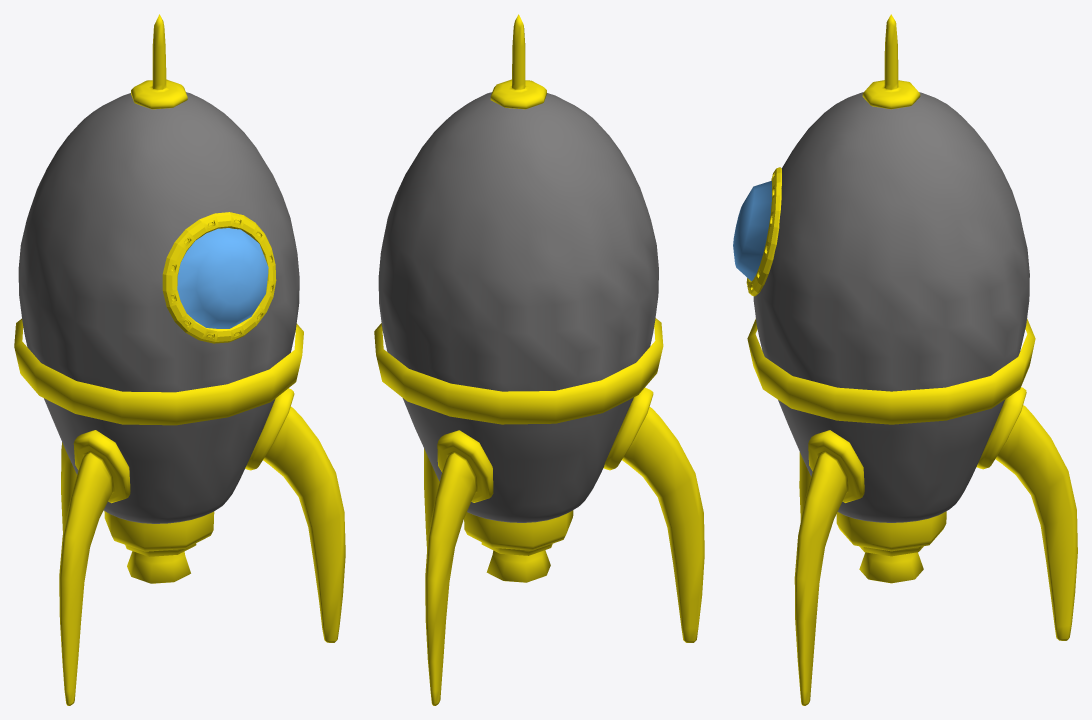
The model's file is SpaceShip.glb.
3 views of the same model, side by side, from view 1: azimuth 30°, elevation 25°; view 2: azimuth 150°, elevation 25°; view 3: azimuth 270°, elevation 25° (orthographic).
Visible parts, largest first — view 1: boddy, Arm, boddy_belt, win_001, fire_nozzle, win_frem, head; view 2: boddy, Arm, boddy_belt, fire_nozzle, head; view 3: boddy, Arm, boddy_belt, fire_nozzle, win_001, head, win_frem.
Part boxes in pixels (box(x1,y1,x2,y2)): boddy: box(18, 92, 299, 523); Arm: box(59, 388, 345, 705); boddy_belt: box(14, 318, 303, 425); win_001: box(177, 228, 268, 328); fire_nozzle: box(104, 511, 214, 583); win_frem: box(162, 212, 276, 343); head: box(131, 14, 187, 109); boddy: box(378, 92, 658, 522); Arm: box(424, 387, 704, 705); boddy_belt: box(374, 318, 663, 424); fire_nozzle: box(464, 510, 573, 582); head: box(490, 14, 546, 109); boddy: box(753, 92, 1029, 522); Arm: box(794, 387, 1077, 705); boddy_belt: box(747, 318, 1035, 424); fire_nozzle: box(836, 511, 946, 583); win_001: box(733, 180, 771, 281); head: box(862, 14, 920, 109); win_frem: box(746, 167, 781, 296).
Size of the model in its own units: 3.08 by 6.58 by 3.28.
